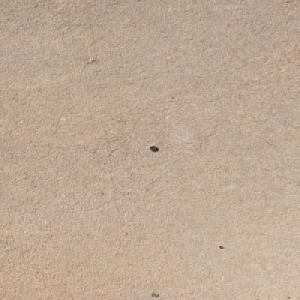Nut: (148, 145, 157, 150)
